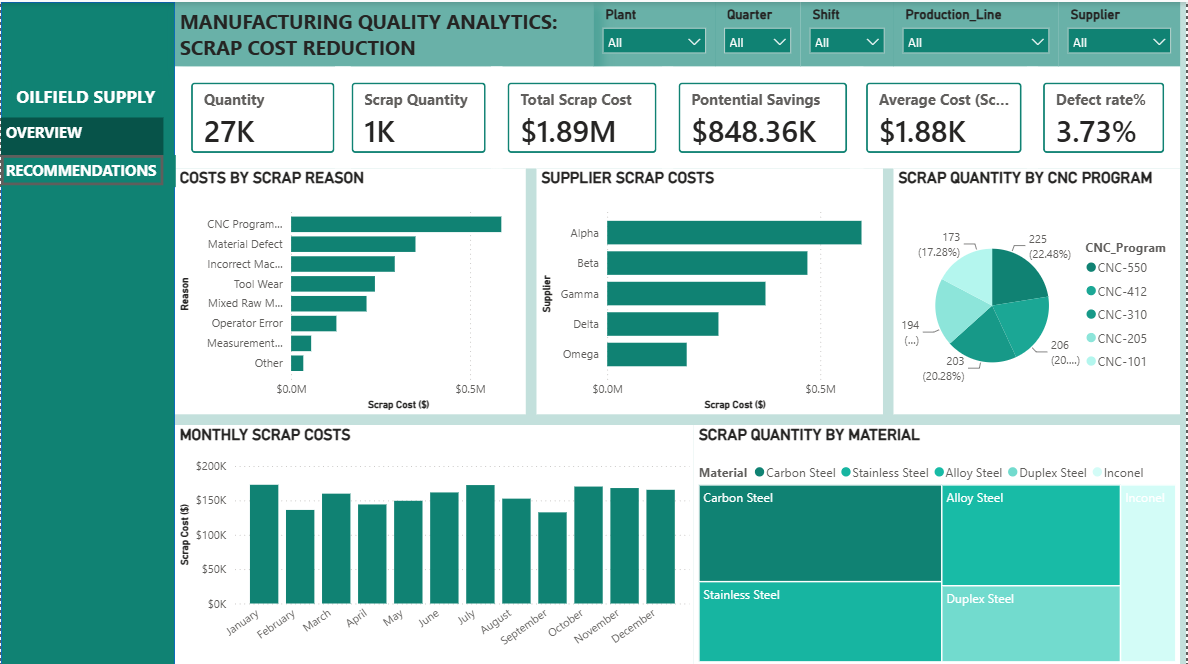

The dashboard page shown, as its layout file describes it:
{"tool":"powerbi","page":{"name":"Manufacturing Quality Analytics: Scrap Cost Reduction","canvas":[1280,720],"ordinal":0},"visuals":[{"type":"shape","box":[0,0,187.8,720.6],"z":0},{"type":"textbox","box":[187.8,0,451.8,69.6],"z":1000},{"type":"cardVisual","fields":{"Data":["Fact_Manufacturing_Scrap.Total Scrap Cost"]},"box":[529.5,69.6,195.9,110.1],"z":2000},{"type":"cardVisual","fields":{"Data":["Fact_Manufacturing_Scrap.Total Quantity Produced"]},"box":[187.8,69.6,189.4,110.1],"z":3000},{"type":"cardVisual","fields":{"Data":["Fact_Manufacturing_Scrap.Total Scrap Quantity"]},"box":[361.1,69.6,179.7,110.1],"z":4000},{"type":"cardVisual","fields":{"Data":["Fact_Manufacturing_Scrap.Defect rate%"]},"box":[1107.6,69.6,165.2,110.1],"z":5000},{"type":"cardVisual","fields":{"Data":["Fact_Manufacturing_Scrap.Pontential Savings"]},"box":[714.1,69.6,217,110.1],"z":6000},{"type":"clusteredBarChart","title":"COSTS BY SCRAP REASON","fields":{"Category":["Fact_Manufacturing_Scrap.Scrap_Reason"],"Y":["Fact_Manufacturing_Scrap.Total Scrap Cost"]},"box":[187.8,179.7,378.9,265.6],"z":7000},{"type":"clusteredBarChart","title":"SUPPLIER SCRAP COSTS","fields":{"Category":["Fact_Manufacturing_Scrap.Supplier_Name"],"Y":["Fact_Manufacturing_Scrap.Total Scrap Cost"]},"box":[578.1,179.7,374,265.6],"z":8000},{"type":"clusteredColumnChart","title":"MONTHLY SCRAP COSTS","fields":{"Y":["Fact_Manufacturing_Scrap.Total Scrap Cost"],"Category":["Dim_Date.Month"]},"box":[187.8,456.6,560.3,260.7],"z":9000},{"type":"treemap","title":"SCRAP QUANTITY BY MATERIAL","fields":{"Group":["Fact_Manufacturing_Scrap.Material"],"Values":["Fact_Manufacturing_Scrap.Total Scrap Cost"]},"box":[748.1,456.6,524.6,260.7],"z":10000},{"type":"pieChart","title":"SCRAP QUANTITY BY CNC PROGRAM","fields":{"Category":["Fact_Manufacturing_Scrap.CNC_Program"],"Y":["Fact_Manufacturing_Scrap.Total Scrap Quantity"]},"box":[963.4,179.7,309.3,265.6],"z":11000},{"type":"cardVisual","fields":{"Data":["Fact_Manufacturing_Scrap.Average Material Scrap Cost"]},"box":[916.5,69.6,202.4,110.1],"z":12000},{"type":"slicer","fields":{"Values":["Fact_Manufacturing_Scrap.Plant"]},"box":[639.6,0,131.2,69.6],"z":13000},{"type":"slicer","fields":{"Values":["Dim_Date.Quarter"]},"box":[770.8,0,92.3,69.6],"z":14000},{"type":"slicer","fields":{"Values":["Fact_Manufacturing_Scrap.Shift"]},"box":[863,0,100.4,69.6],"z":15000},{"type":"slicer","fields":{"Values":["Fact_Manufacturing_Scrap.Production_Line"]},"box":[963.4,0,178.1,69.6],"z":16000},{"type":"slicer","fields":{"Values":["Fact_Manufacturing_Scrap.Supplier_Name"]},"box":[1141.6,0,131.2,69.6],"z":17000},{"type":"textbox","box":[11.3,84.2,163.5,40.5],"z":18000},{"type":"textbox","box":[0,125.2,175.2,40.4],"z":20000},{"type":"textbox","box":[0,165.6,188.7,34.7],"z":21000},{"type":"actionButton","box":[0,165.6,175.2,32.7],"z":21001}]}

Visuals, with their boxes in screenshot pixels (x1, y1, x2, y2), scaled from the page's 1280x720 canvas onto the 1188x664 screenshot:
shape: region(0, 0, 174, 663)
textbox: region(174, 0, 594, 64)
cardVisual - Fact_Manufacturing_Scrap.Total Scrap Cost: region(491, 64, 673, 166)
cardVisual - Fact_Manufacturing_Scrap.Total Quantity Produced: region(174, 64, 350, 166)
cardVisual - Fact_Manufacturing_Scrap.Total Scrap Quantity: region(335, 64, 502, 166)
cardVisual - Fact_Manufacturing_Scrap.Defect rate%: region(1028, 64, 1181, 166)
cardVisual - Fact_Manufacturing_Scrap.Pontential Savings: region(663, 64, 864, 166)
"COSTS BY SCRAP REASON" clusteredBarChart: region(174, 166, 526, 411)
"SUPPLIER SCRAP COSTS" clusteredBarChart: region(537, 166, 884, 411)
"MONTHLY SCRAP COSTS" clusteredColumnChart: region(174, 421, 694, 662)
"SCRAP QUANTITY BY MATERIAL" treemap: region(694, 421, 1181, 662)
"SCRAP QUANTITY BY CNC PROGRAM" pieChart: region(894, 166, 1181, 411)
cardVisual - Fact_Manufacturing_Scrap.Average Material Scrap Cost: region(851, 64, 1038, 166)
slicer - Fact_Manufacturing_Scrap.Plant: region(594, 0, 715, 64)
slicer - Dim_Date.Quarter: region(715, 0, 801, 64)
slicer - Fact_Manufacturing_Scrap.Shift: region(801, 0, 894, 64)
slicer - Fact_Manufacturing_Scrap.Production_Line: region(894, 0, 1059, 64)
slicer - Fact_Manufacturing_Scrap.Supplier_Name: region(1060, 0, 1181, 64)
textbox: region(10, 78, 162, 115)
textbox: region(0, 115, 163, 153)
textbox: region(0, 153, 175, 185)
actionButton: region(0, 153, 163, 183)
